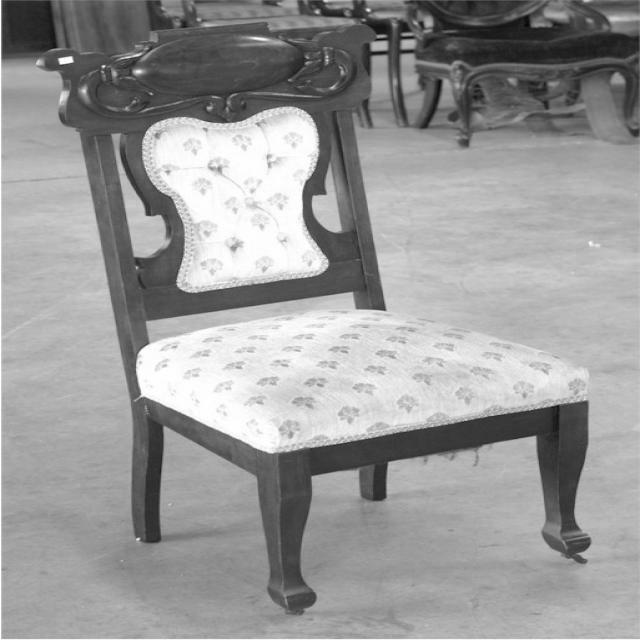chair: (48, 30, 598, 612), (395, 0, 639, 150)
